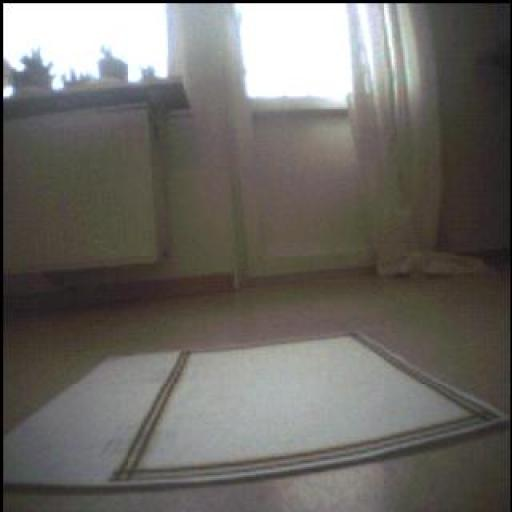Pad: (2, 325, 507, 503)
